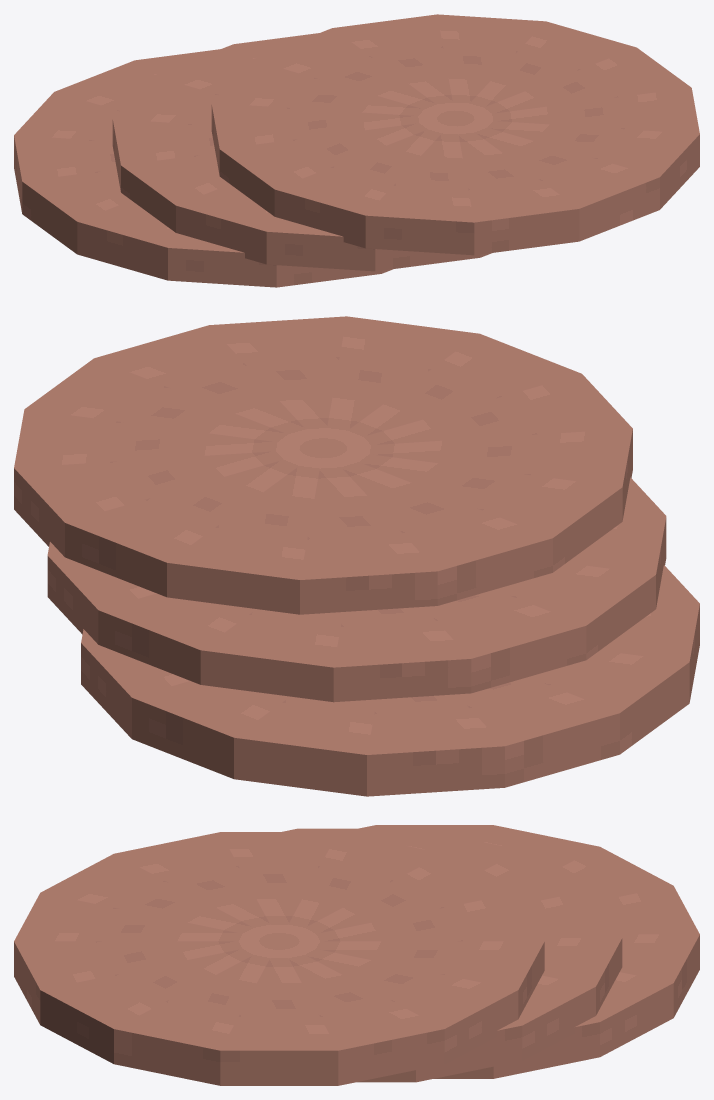
The model's file is bologna.glb.
3 renders of one model, top to bottom at view 1: azimuth 30°, elevation 25°; view 2: azimuth 150°, elevation 25°; view 3: azimuth 270°, elevation 25°, orthographic. The views are drawn at different scales.
Parts seen in each view (by area): view 1: block_round deli slice (×3); view 2: block_round deli slice (×3); view 3: block_round deli slice (×3).
Boxes of the visible parts, left/top/right/bottom form: block_round deli slice (×3): left=14, top=14, right=699, bottom=287; block_round deli slice (×3): left=14, top=316, right=699, bottom=796; block_round deli slice (×3): left=14, top=825, right=699, bottom=1085.
Bounding box in the file's own units: 0.1039 × 0.016 × 0.106.
Materials: 1 (1 with a texture image).
